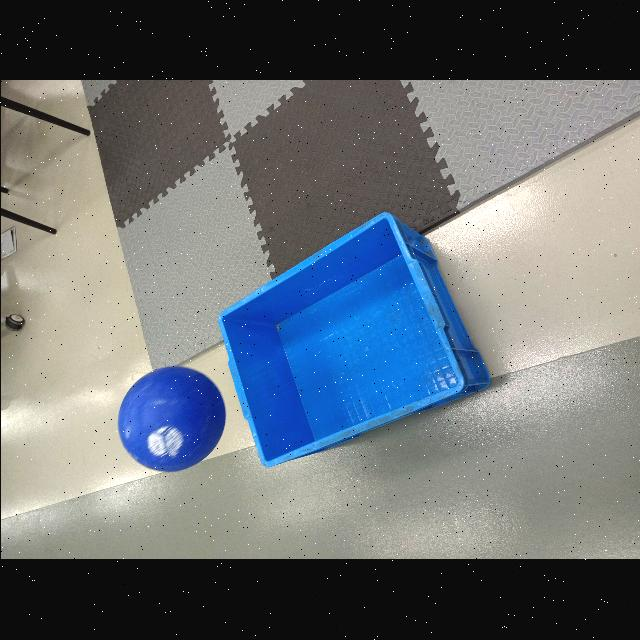B: (115, 364, 223, 476)
